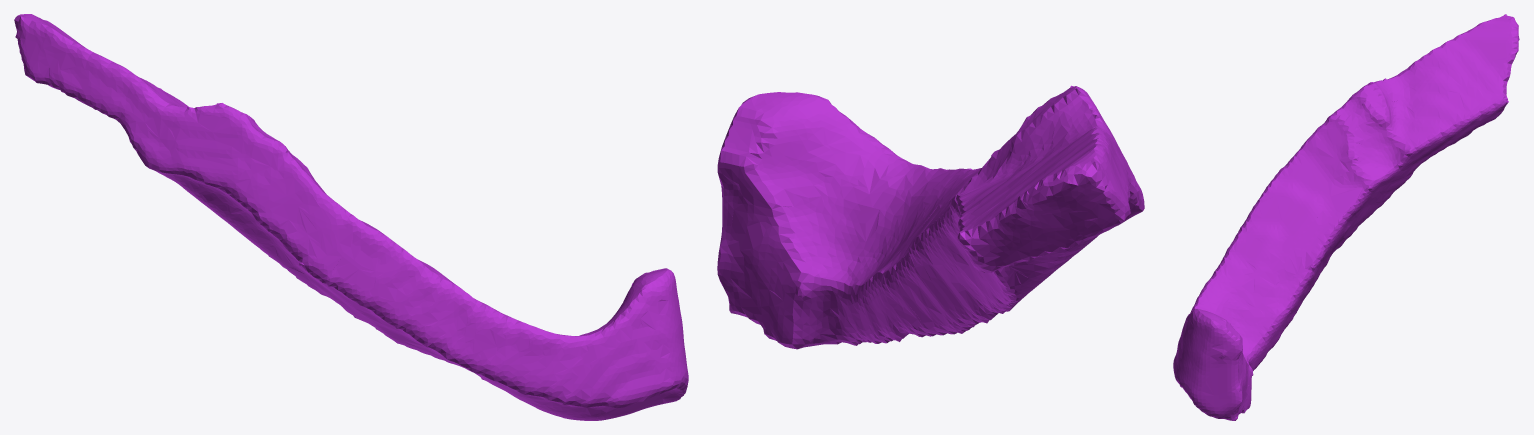
The model's file is Model_10029_LH__Area_3a_of_cortex_(primary_somatosensory)_(A3a).obj.
The picture shows the model from 3 angles, left to right: view 1: azimuth 30°, elevation 25°; view 2: azimuth 150°, elevation 25°; view 3: azimuth 270°, elevation 25°; orthographic projection. The views are drawn at different scales.
Bounding box in the file's own units: 8.83 × 6.56 × 8.
